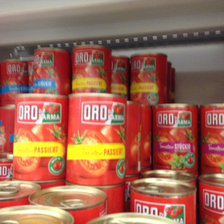tomato_sauce: (65, 91, 127, 187), (11, 92, 65, 183), (152, 103, 198, 171), (129, 52, 167, 105), (71, 45, 112, 93), (32, 47, 70, 93)
